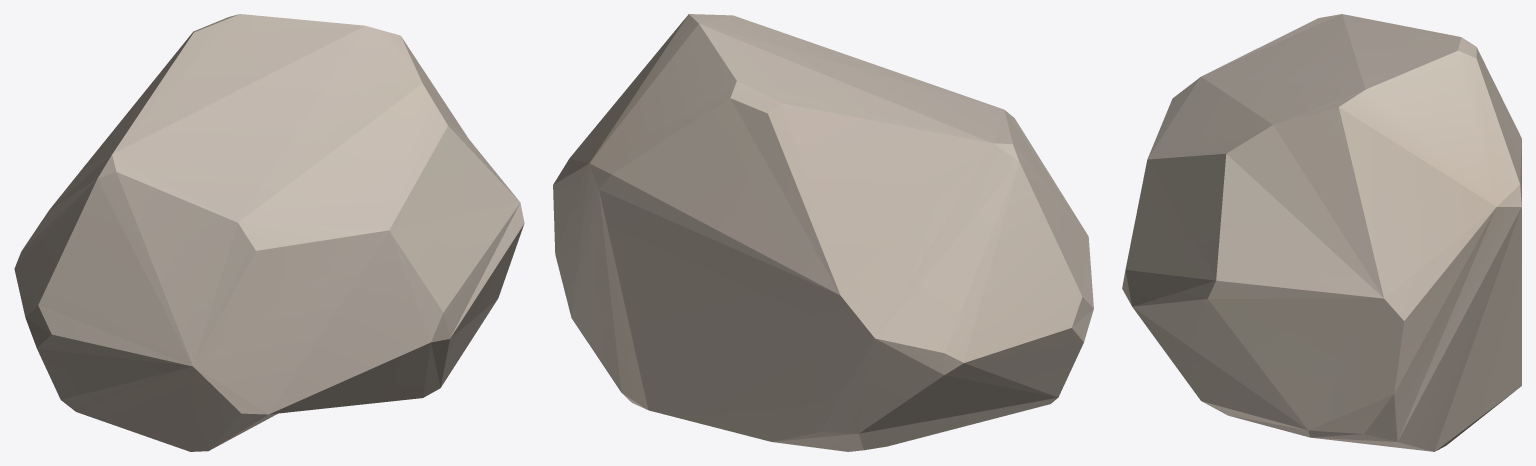
File: rock.glb
3 views of the same model, side by side, from view 1: azimuth 30°, elevation 25°; view 2: azimuth 150°, elevation 25°; view 3: azimuth 270°, elevation 25° (orthographic). The views are drawn at different scales.
Visible parts, largest first — view 1: geometry_0; view 2: geometry_0; view 3: geometry_0.
Part boxes in pixels (x1,y1,x2,y2): geometry_0: [14, 14, 524, 451]; geometry_0: [553, 14, 1093, 451]; geometry_0: [1122, 14, 1521, 451].
Bounding box in the file's own units: 0.1616 × 0.1104 × 0.1162.
